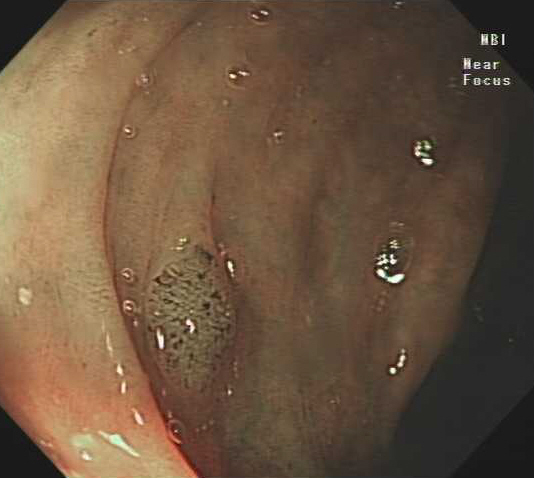adenoma: (136, 237, 238, 401)
